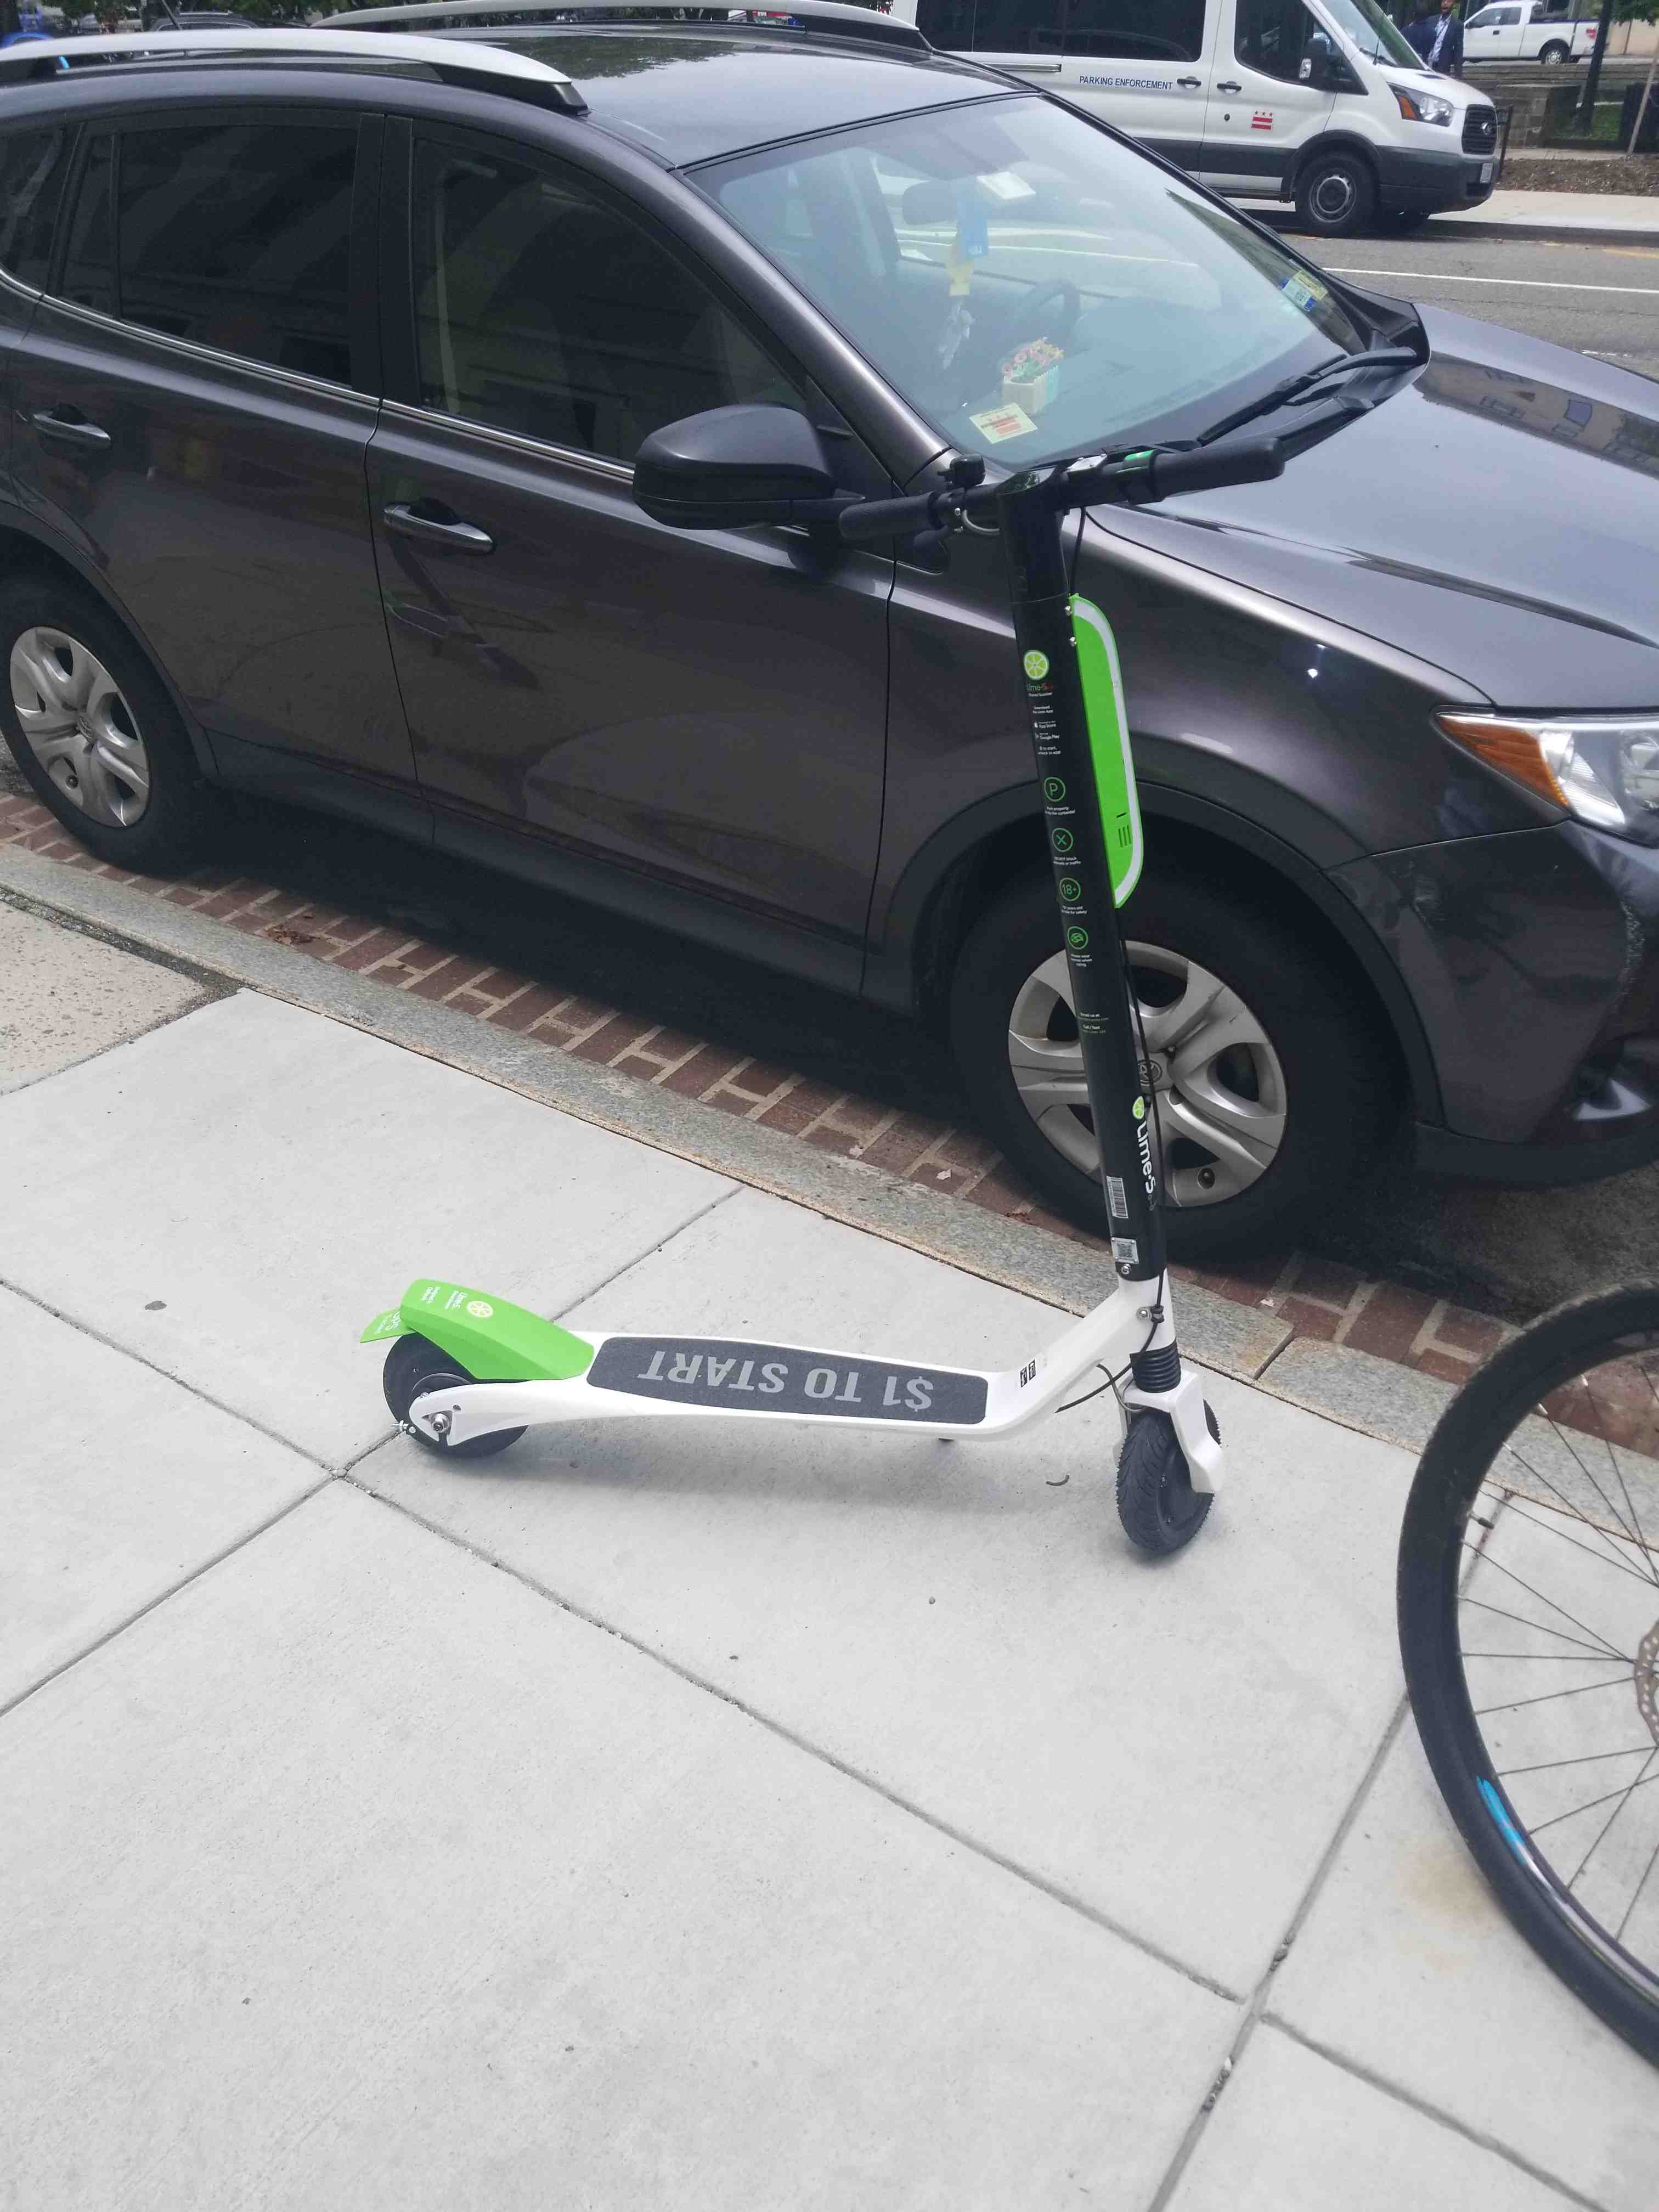scooter: (352, 434, 1314, 1543)
